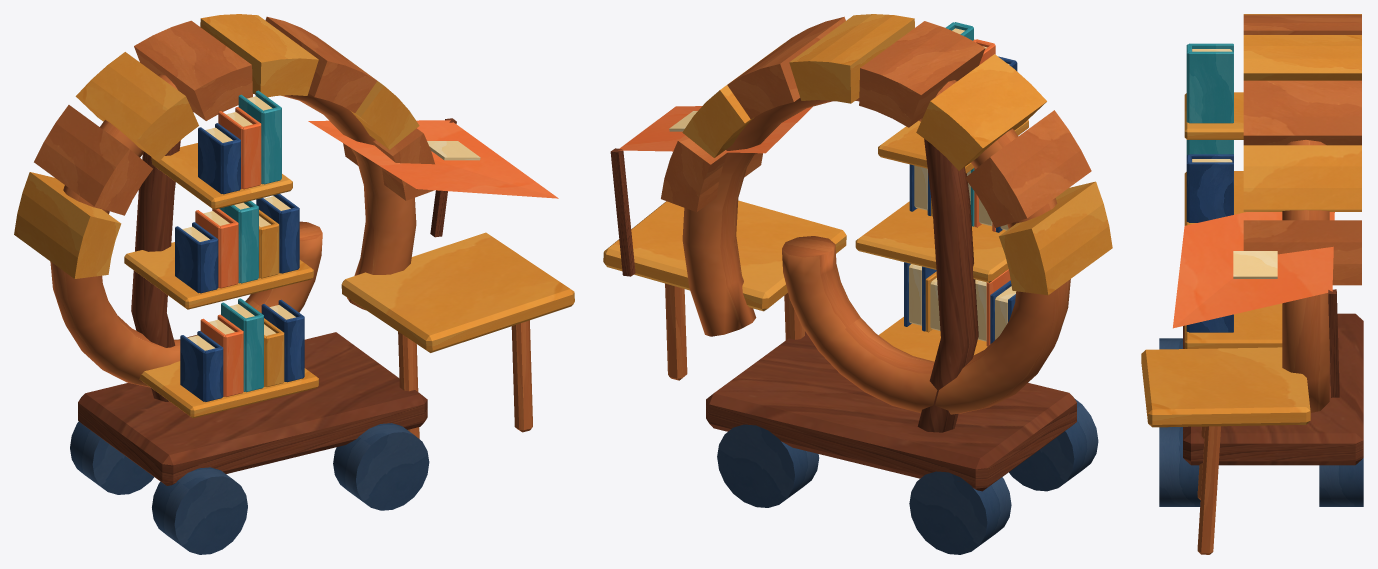
The model's file is 03_宫崎骏参考_水粉.glb.
The picture shows the model from 3 angles, left to right: view 1: azimuth 30°, elevation 25°; view 2: azimuth 150°, elevation 25°; view 3: azimuth 270°, elevation 25°; orthographic projection. The views are drawn at different scales.
Parts seen in each view (by area): view 1: snail_library; view 2: snail_library; view 3: snail_library.
Part boxes in pixels (bbox=[...]): snail_library: bbox=[14, 14, 574, 554]; snail_library: bbox=[603, 14, 1112, 554]; snail_library: bbox=[1141, 14, 1363, 554].
Bounding box in the file's own units: 1.73 × 1.59 × 0.7508.
Materials: 1 (1 with a texture image).
